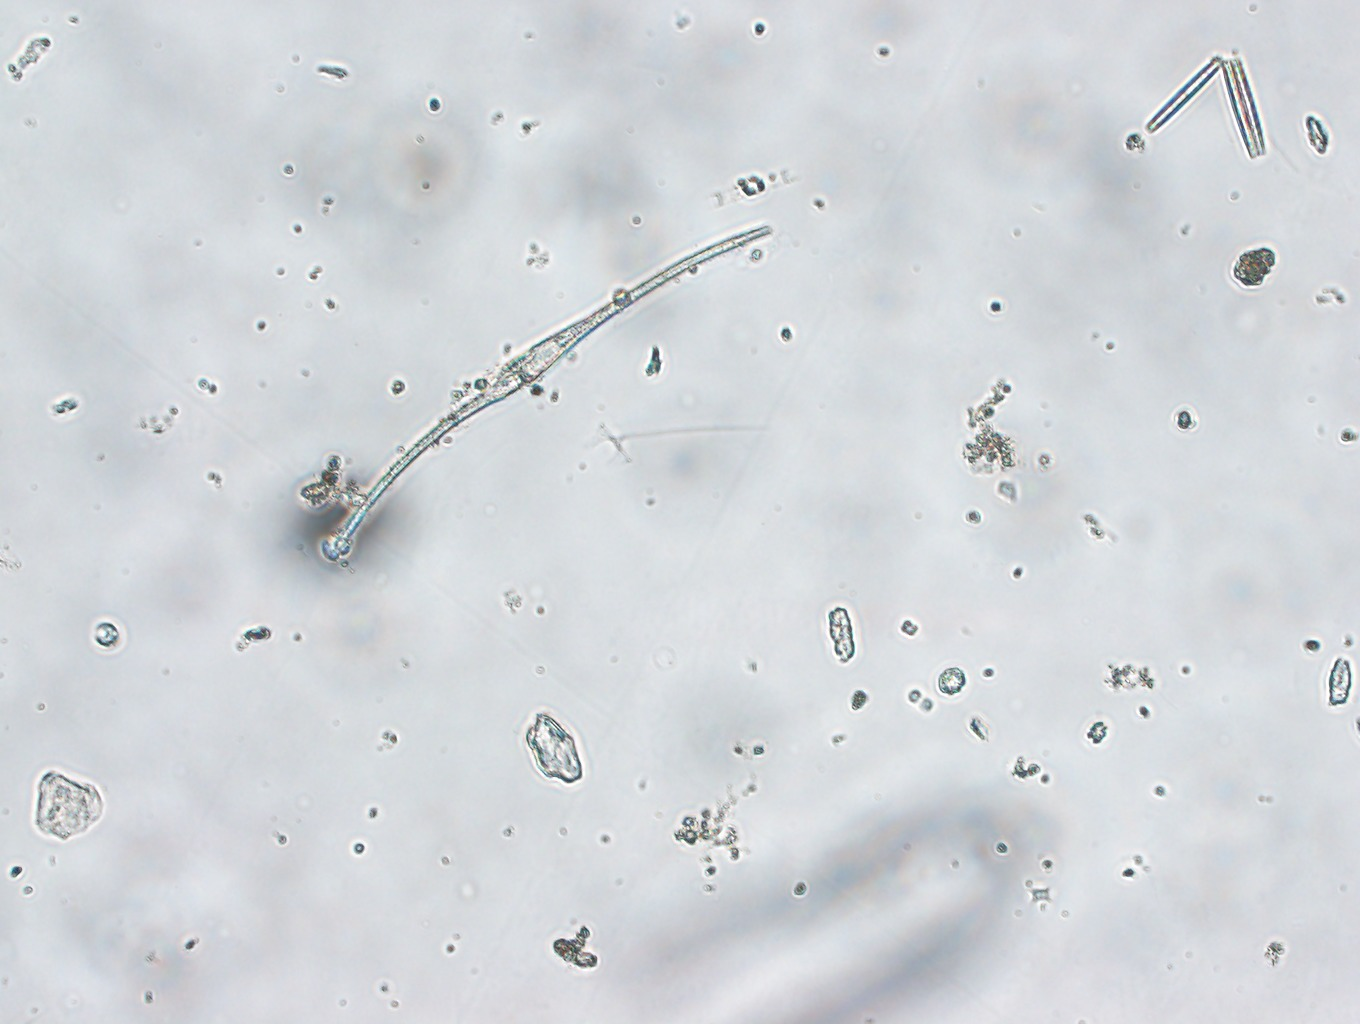ceratium fusus: (325, 213, 776, 547)
thalassionema nitzschioides: (1143, 44, 1268, 160)
